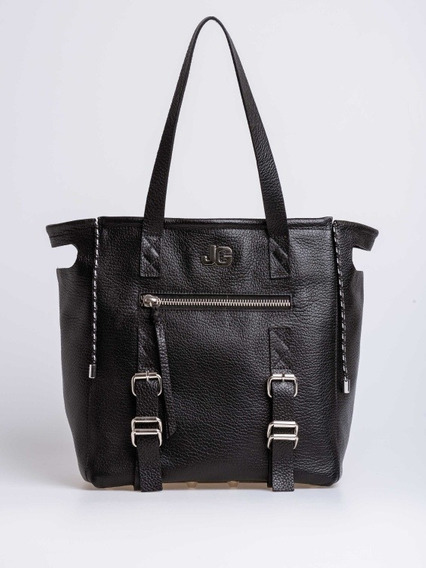cartera: (42, 12, 381, 496)
